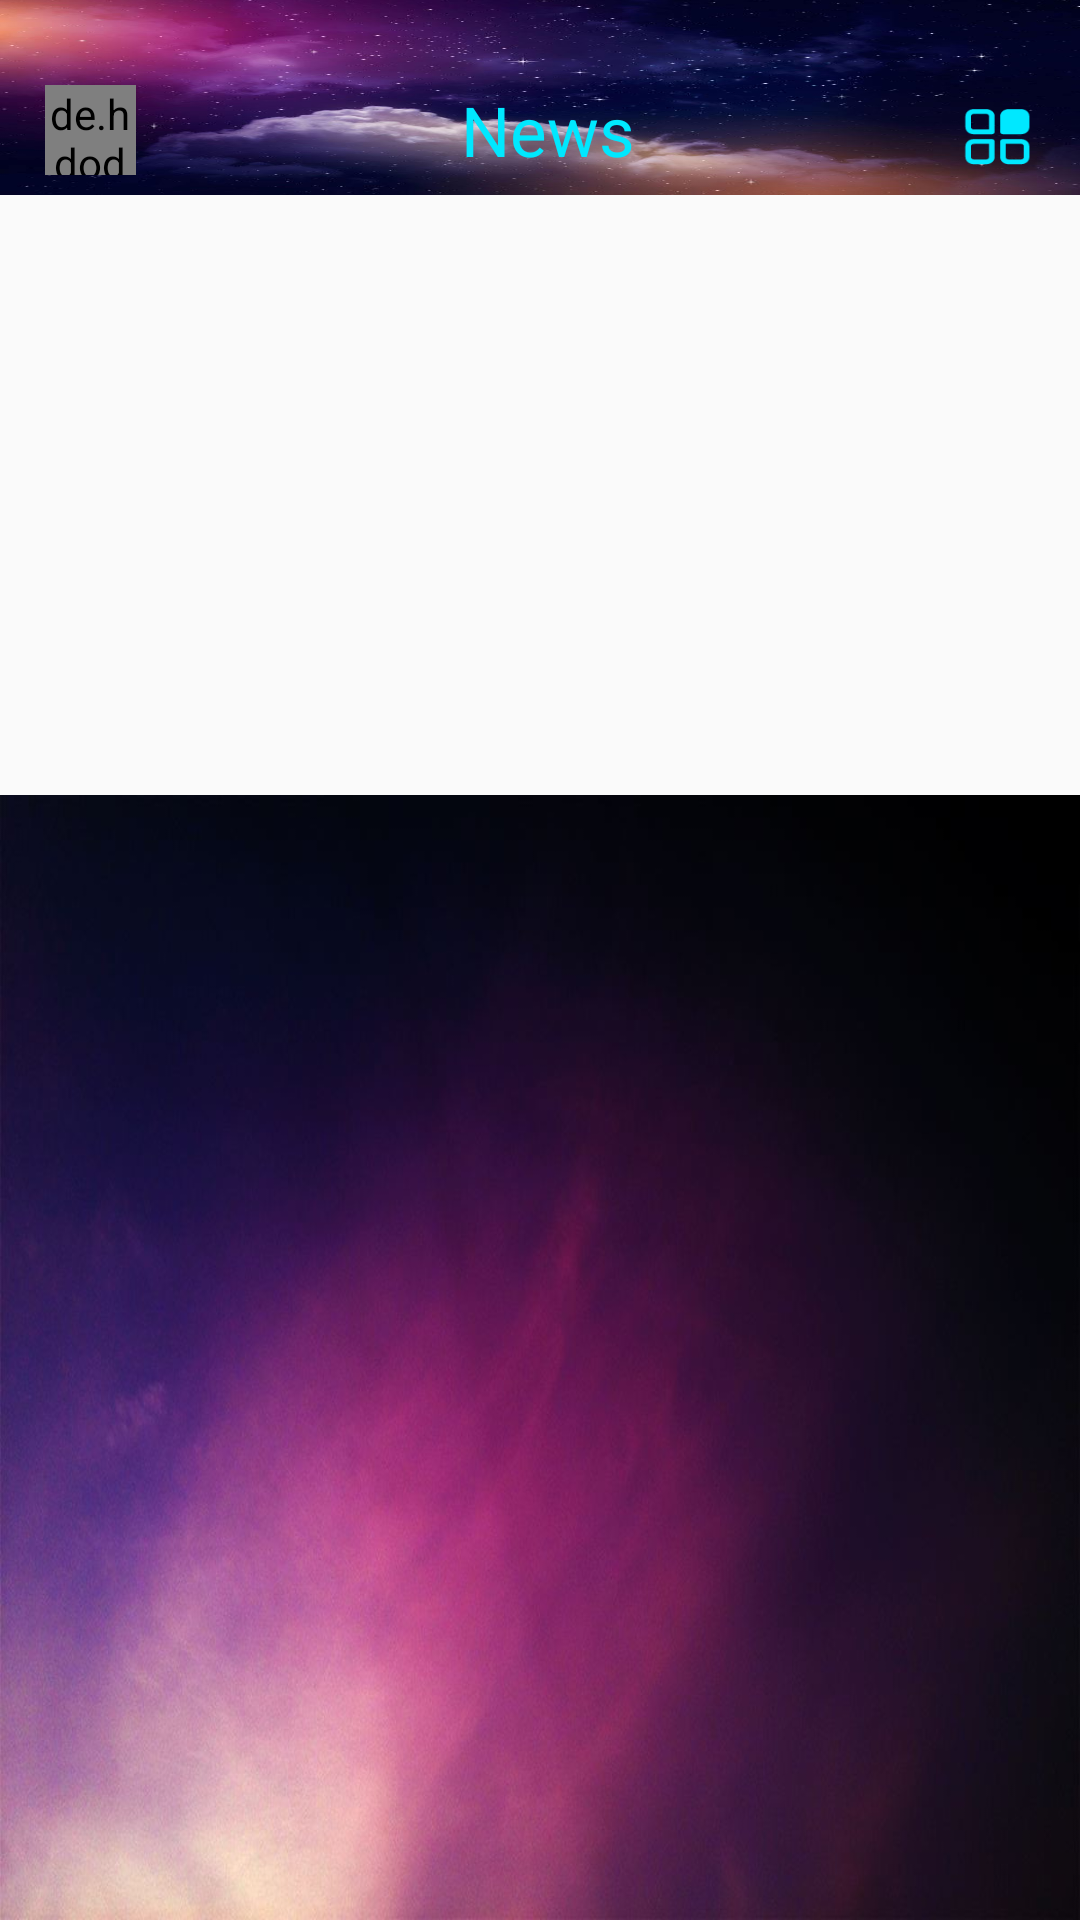

Icon click points for this 1080w x 1920h phone screenshot, format (x=x, y=y):
moreb: (x=997, y=136)
